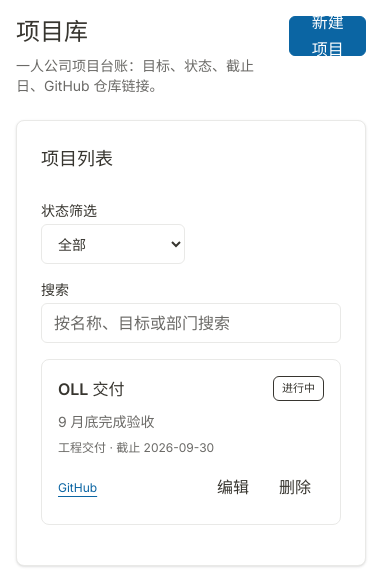
ProjectsPage › searches projects by keyword
Expected: the text "OLL 交付" is shown, [58,376,124,404]
Type "不存在" into the field named "搜索项目" at (191, 323), box [41,303,341,343]
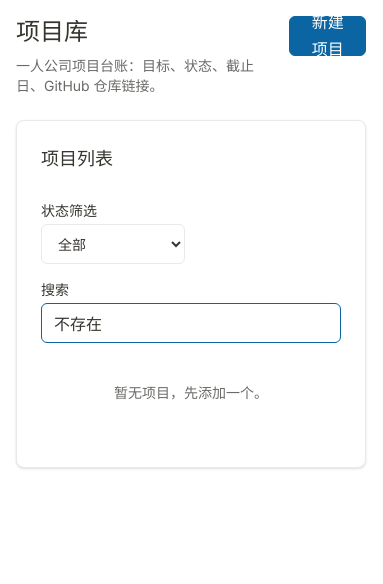
Result: the text "暂无项目，先添加一个。" is shown at [114,384,268,401]
